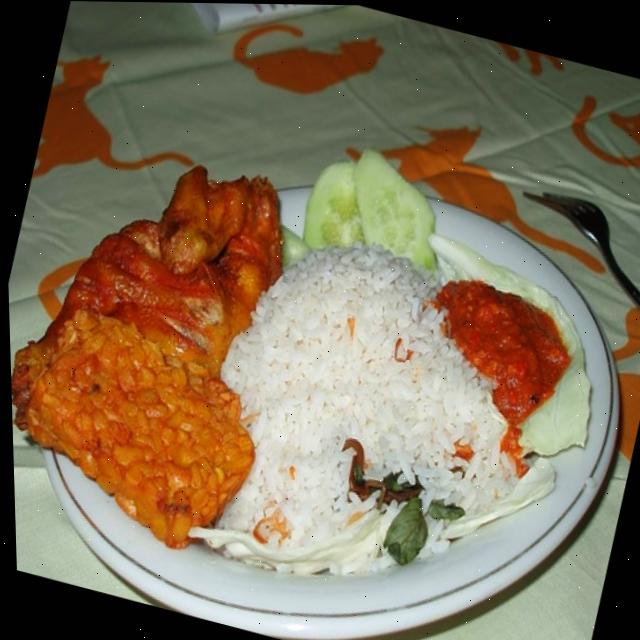米饭主食: (1, 26, 640, 640)
